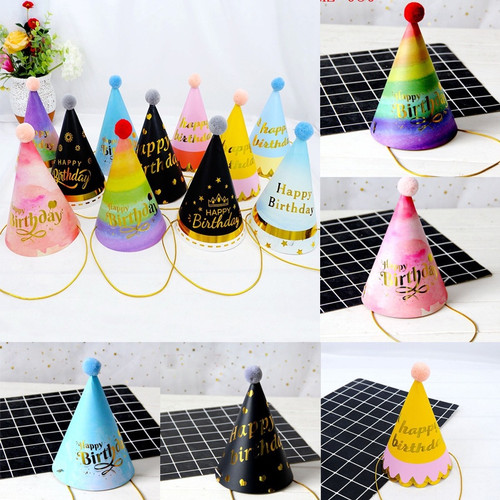cone: (370, 23, 458, 151), (361, 195, 448, 319), (52, 375, 134, 490), (215, 382, 294, 495), (5, 141, 81, 257), (95, 138, 167, 252), (249, 138, 319, 255), (177, 135, 246, 252), (382, 380, 453, 488), (51, 108, 106, 209), (135, 104, 188, 205), (219, 105, 261, 201), (95, 87, 139, 176), (249, 91, 291, 178), (170, 87, 212, 173), (23, 91, 59, 169)
